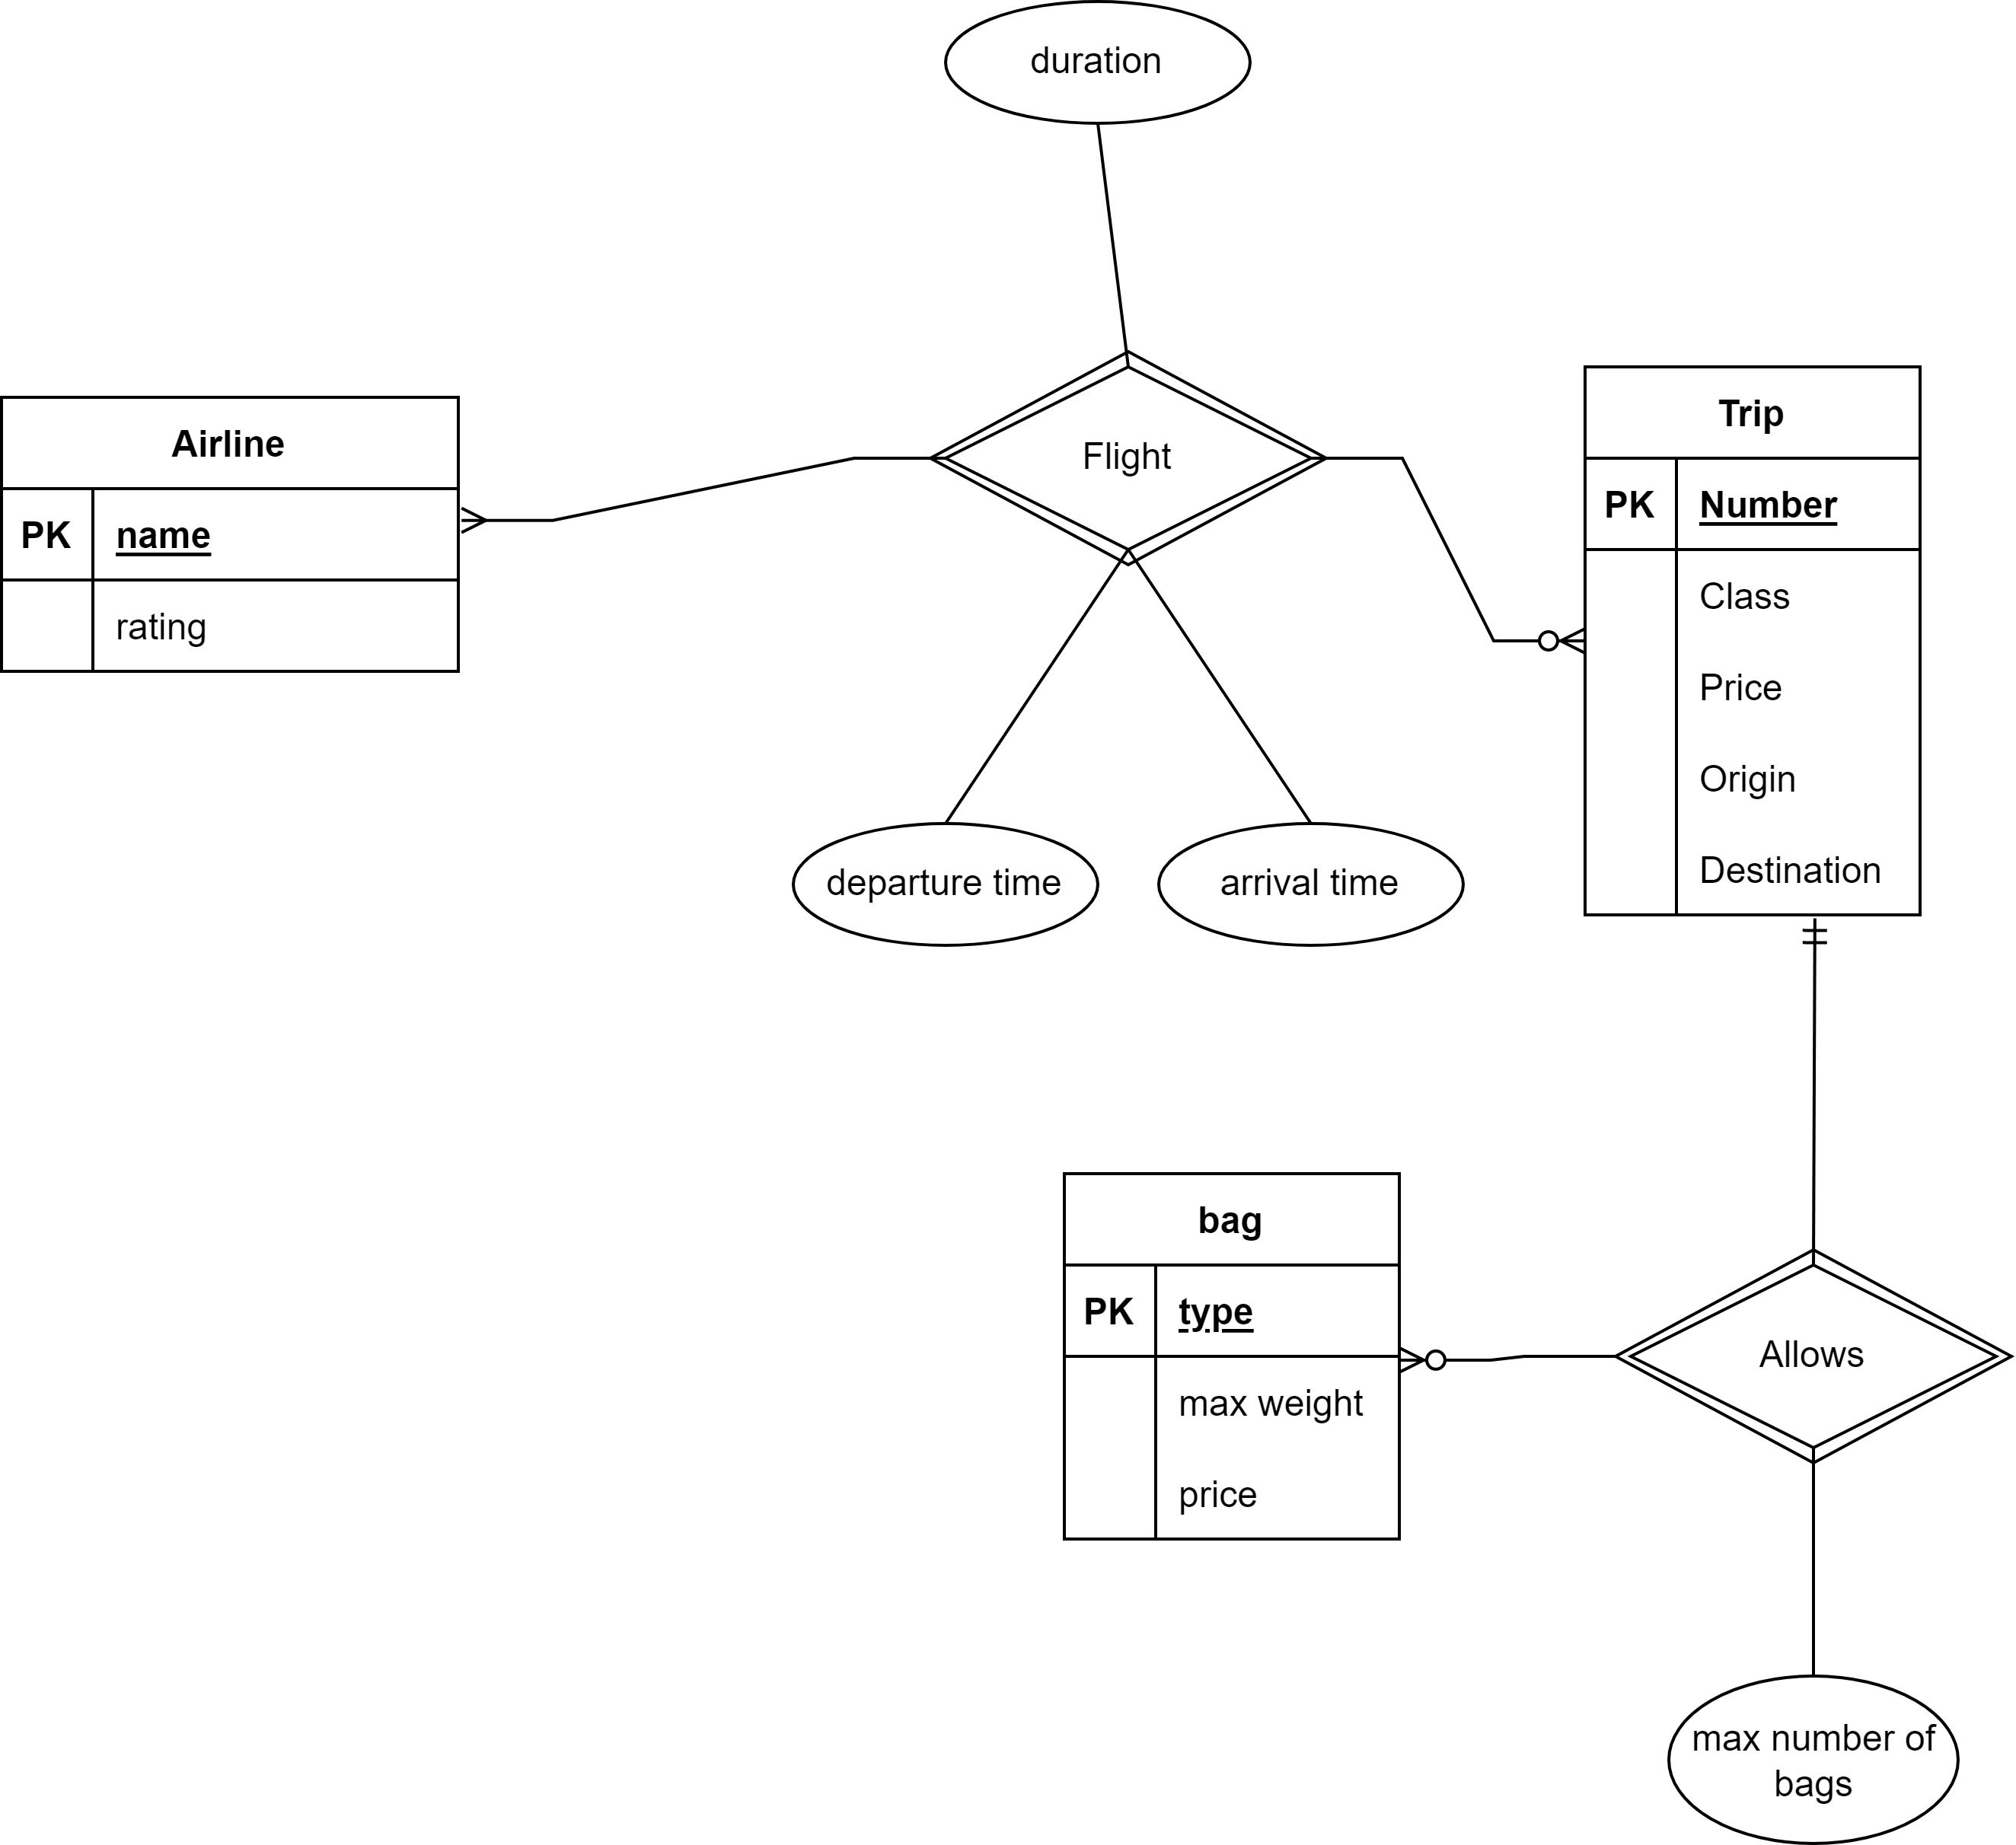attribute: (1667, 1673, 1965, 1845), (1152, 820, 1472, 950), (940, 0, 1254, 125), (788, 823, 1103, 946)
entity: (1577, 362, 1926, 920), (1054, 1169, 1405, 1552), (0, 395, 464, 681)
weakrelationship: (934, 355, 1328, 567), (1626, 1245, 2016, 1459)
